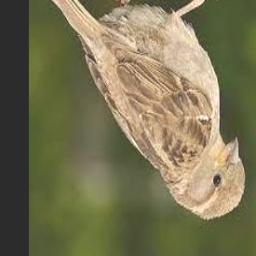Sparrow: (35, 0, 244, 220)
